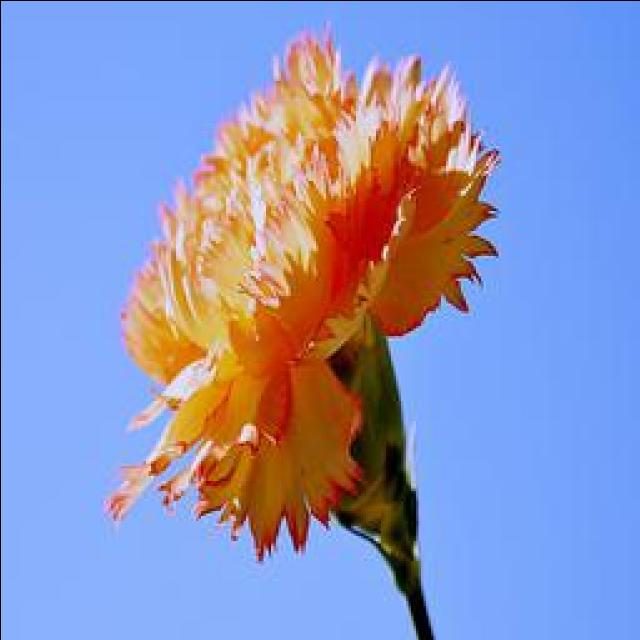carnation: (96, 34, 524, 626)
